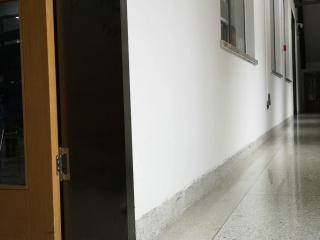room: (1, 4, 142, 240)
